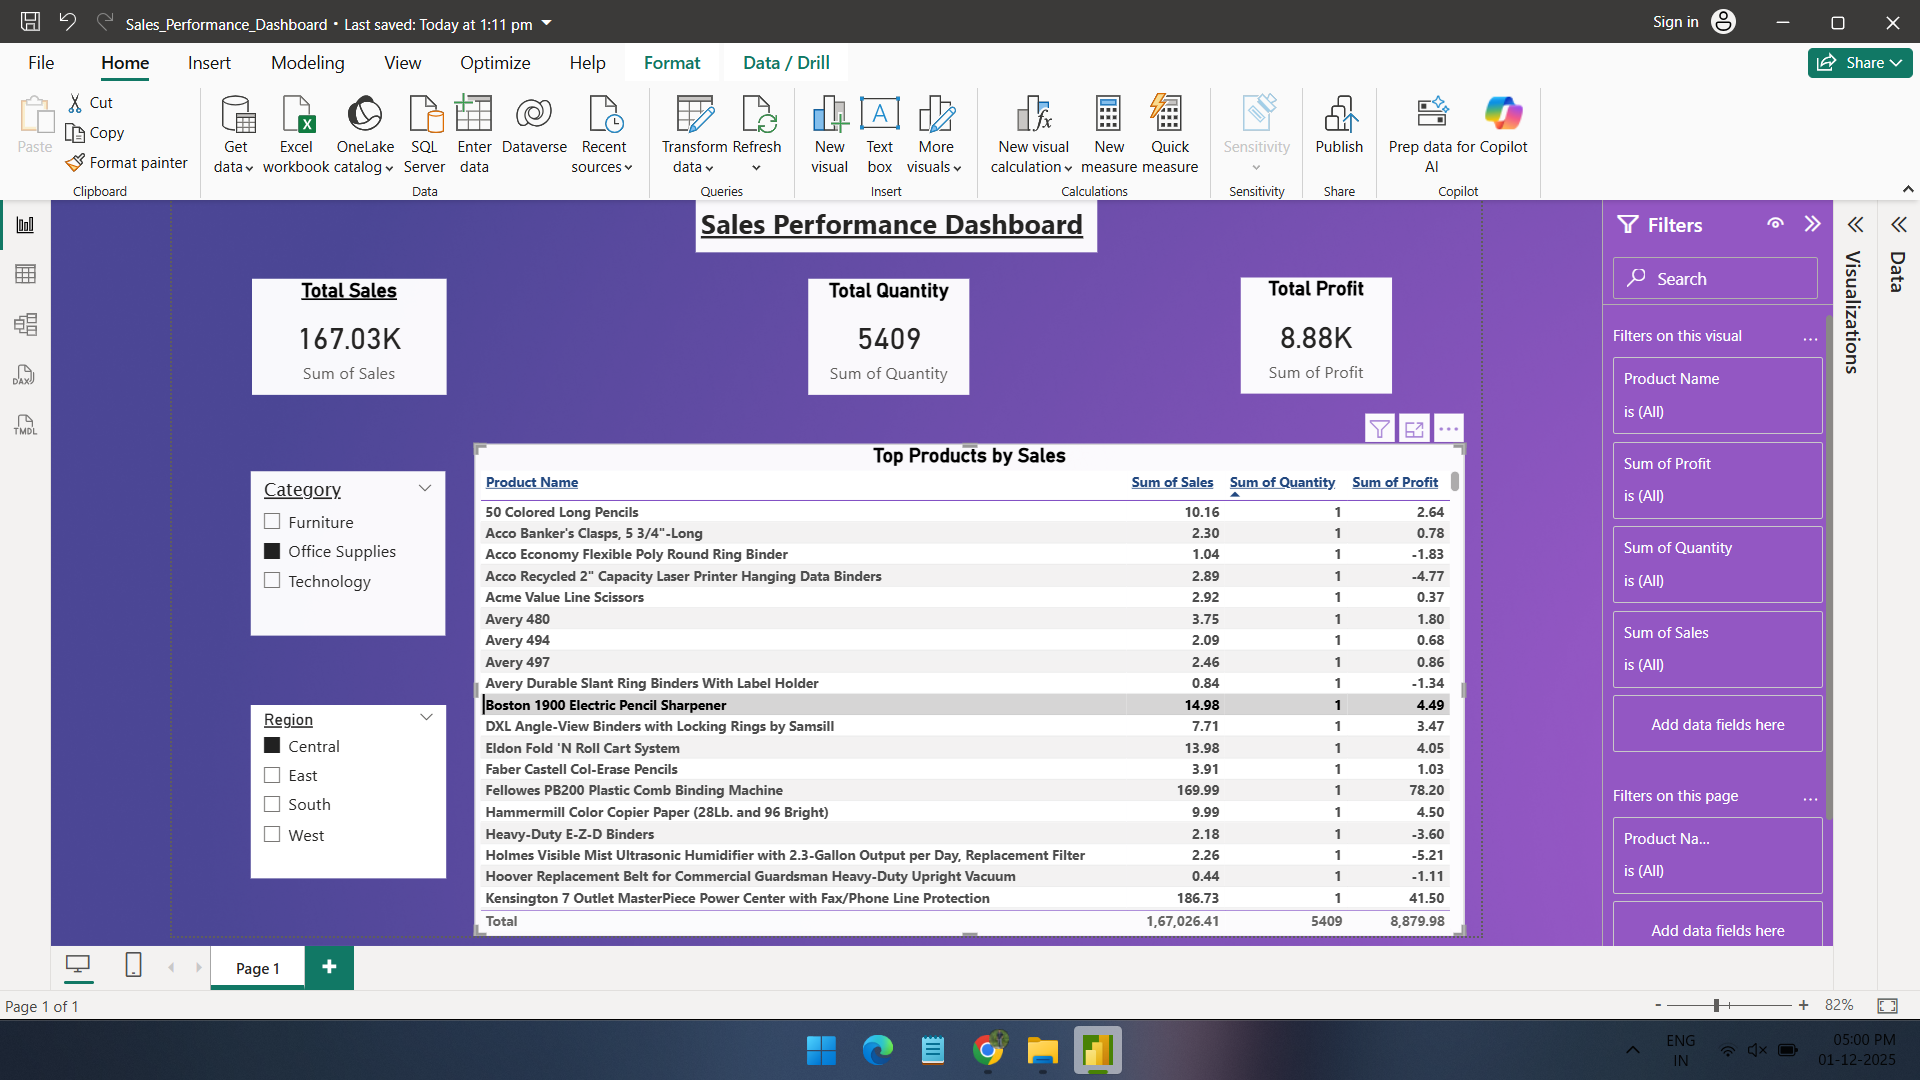

The dashboard page shown, as its layout file describes it:
{"tool":"powerbi","page":{"name":"Page 1","canvas":[1280,720],"ordinal":0},"visuals":[{"type":"card","title":"Total Sales","fields":{"Values":["Sum(Sample - Superstore.Sales)"]},"box":[78.2,76.9,190.2,113.3],"z":0},{"type":"card","title":"Total Profit","fields":{"Values":["Sum(Sample - Superstore.Profit)"]},"box":[1045.4,76.2,147.8,113.6],"z":1000},{"type":"slicer","fields":{"Values":["Sample - Superstore.Category"]},"box":[76.9,265.8,190.2,160.5],"z":2000},{"type":"card","title":"Total Quantity","fields":{"Values":["Sum(Sample - Superstore.Quantity)"]},"box":[621.9,76.9,157.8,113.3],"z":3000},{"type":"slicer","fields":{"Values":["Sample - Superstore.Region"]},"box":[76.9,493.8,191.6,170],"z":4000},{"type":"textbox","box":[512.6,0,392.6,51.3],"z":5000},{"type":"tableEx","title":"Top Products by Sales","fields":{"Values":["Sample - Superstore.Product Name","Sum(Sample - Superstore.Sales)","Sum(Sample - Superstore.Quantity)","Sum(Sample - Superstore.Profit)"]},"box":[295.4,238.8,968.6,481.6],"z":6000}]}

Visuals, with their boxes on the page's 1280x720 design canvas (x1, y1, x2, y2). These are canvas units, not pixel positions in the 1920x1080 screenshot, which may show the page scaled, cropped or inside an application window:
"Total Sales" card: {"x1": 78, "y1": 77, "x2": 268, "y2": 190}
"Total Profit" card: {"x1": 1045, "y1": 76, "x2": 1193, "y2": 190}
slicer - Sample - Superstore.Category: {"x1": 77, "y1": 266, "x2": 267, "y2": 426}
"Total Quantity" card: {"x1": 622, "y1": 77, "x2": 780, "y2": 190}
slicer - Sample - Superstore.Region: {"x1": 77, "y1": 494, "x2": 268, "y2": 664}
textbox: {"x1": 513, "y1": 0, "x2": 905, "y2": 51}
"Top Products by Sales" tableEx: {"x1": 295, "y1": 239, "x2": 1264, "y2": 720}
